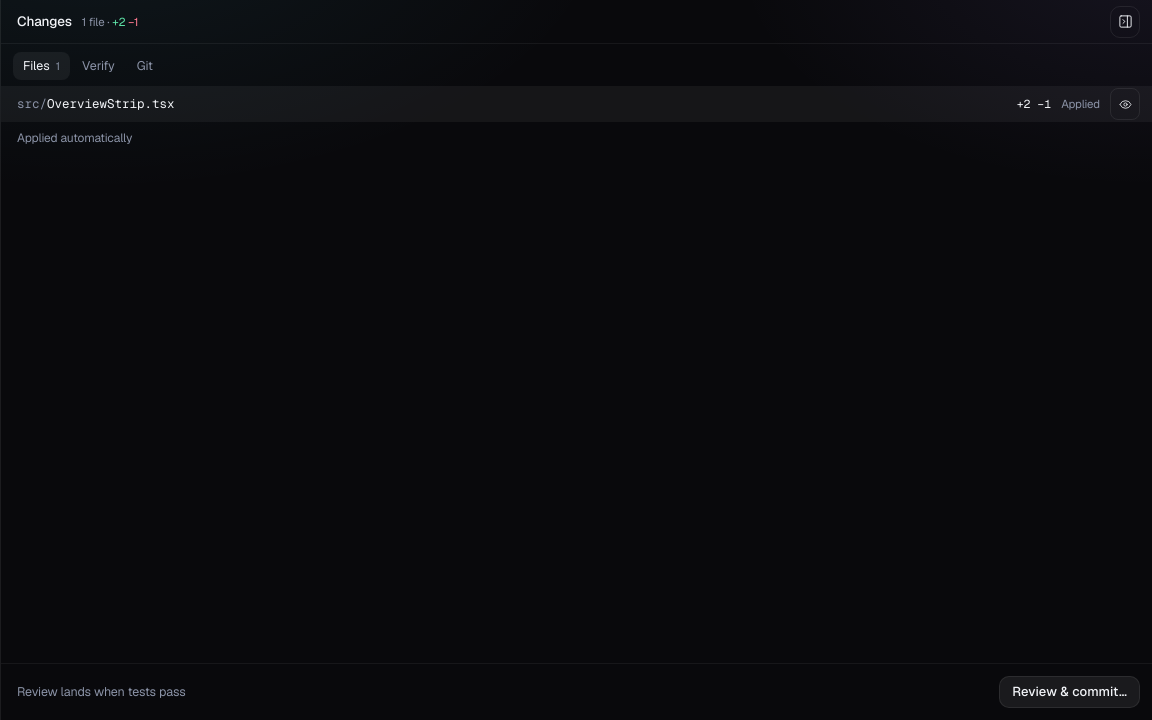
ChangesDock — tabs › switching to the Git tab shows git evidence rows
Click the tab "Git" at (145, 66), box [127,52,163,80]
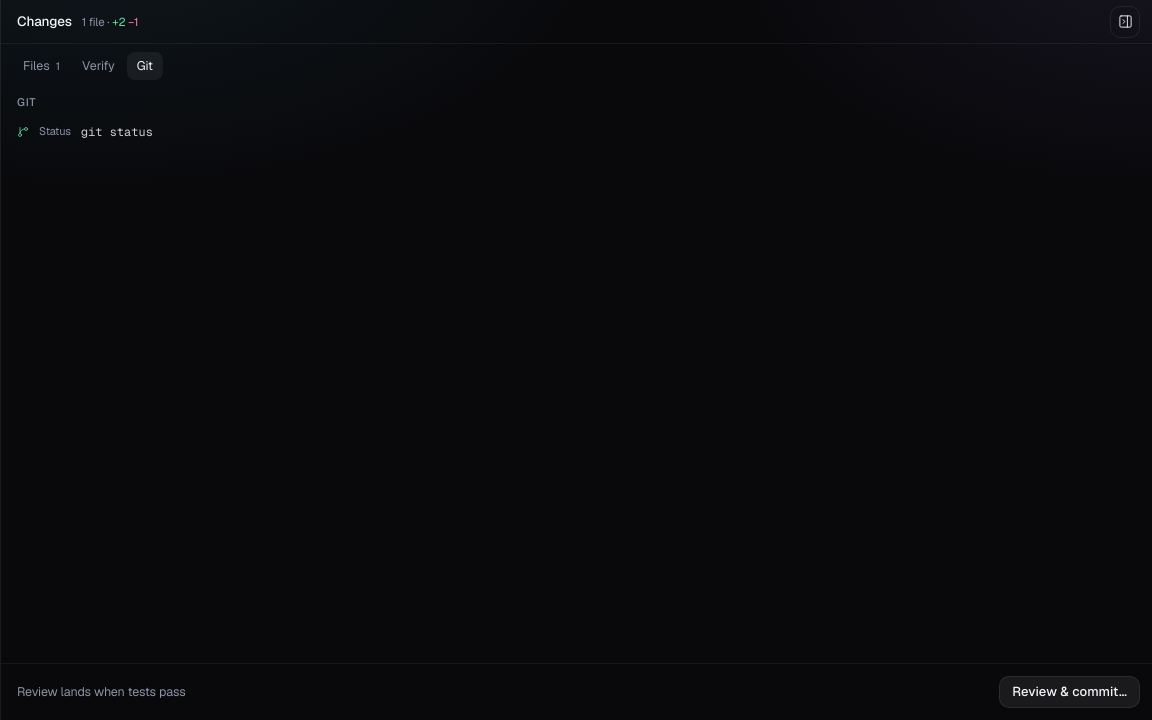
Expected: the text "git status" is shown, [81,122,153,140]
